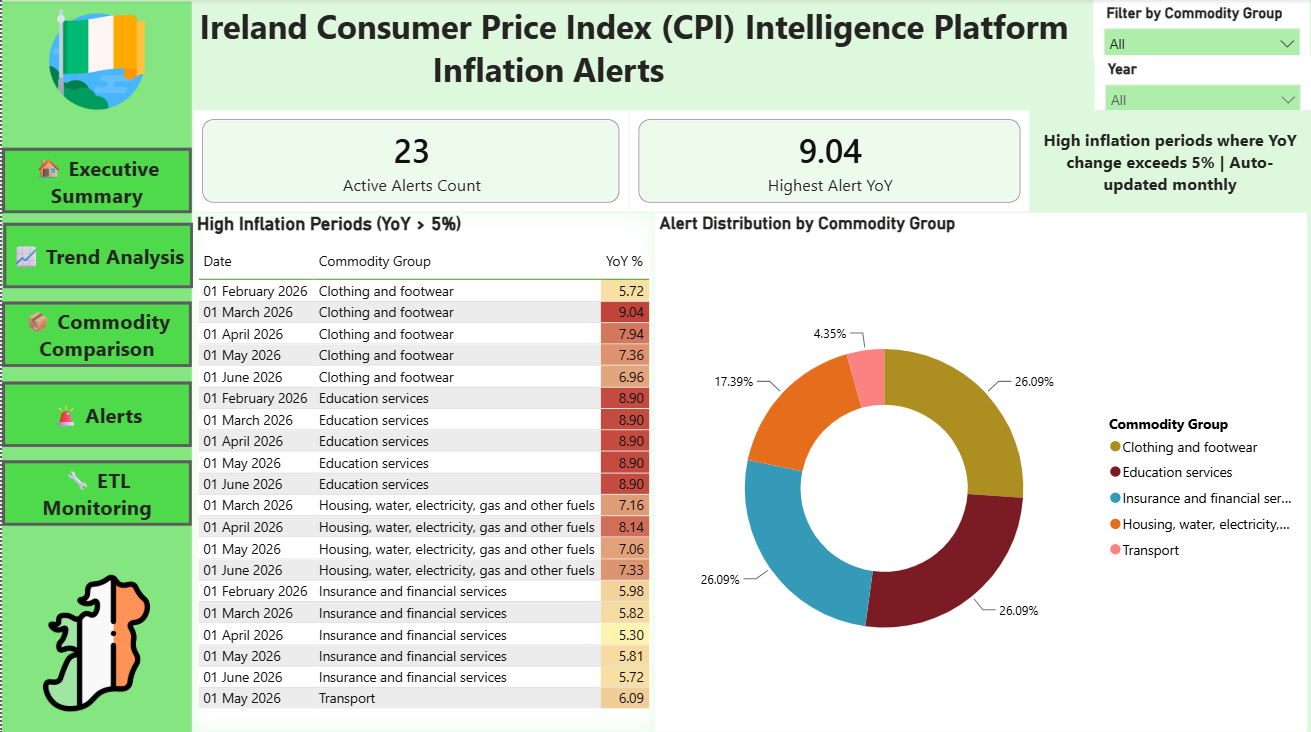

This screenshot's page, from the dashboard's own definition file:
{"tool":"powerbi","page":{"name":"Alerts","canvas":[1280,720],"ordinal":3},"visuals":[{"type":"cardVisual","fields":{"Data":["ireland_cpi_db vw_inflation_alerts.Active Alerts Count"]},"box":[187.6,108.8,426.1,99.6],"z":0},{"type":"cardVisual","fields":{"Data":["ireland_cpi_db vw_inflation_alerts.Highest Alert YoY"]},"box":[613.6,108.8,391.3,99.6],"z":1},{"type":"tableEx","title":"High Inflation Periods (YoY > 5%)","fields":{"Values":["ireland_cpi_db vw_inflation_alerts.full_date","ireland_cpi_db vw_inflation_alerts.group_name","Avg(ireland_cpi_db vw_inflation_alerts.yoy_change)"]},"box":[186.3,209.6,452.4,508.9],"z":2},{"type":"slicer","fields":{"Values":["ireland_cpi_db vw_cpi_monthly_summary.group_name"]},"box":[1068,0,212,60],"z":3},{"type":"textbox","box":[0,0,1068.9,108.6],"z":4},{"type":"textbox","box":[0,2.3,185.2,717.8],"z":6},{"type":"image","box":[26,562,133.9,135.1],"z":7},{"type":"actionButton","box":[0,145,185.8,64.2],"z":8},{"type":"actionButton","box":[0.8,219.2,185.8,64.2],"z":9},{"type":"actionButton","box":[0,295.8,185.8,64.2],"z":10},{"type":"actionButton","box":[0,374.2,185.8,64.2],"z":11},{"type":"actionButton","box":[0,450.8,185.8,64.2],"z":12},{"type":"image","box":[26,10,134,98],"z":13},{"type":"slicer","fields":{"Values":["DateTable.Year"]},"box":[1068.3,54.7,211.7,53.3],"z":14},{"type":"textbox","box":[1007.6,121.1,270.2,86.8],"z":15},{"type":"donutChart","title":"Alert Distribution by Commodity Group","fields":{"Category":["ireland_cpi_db vw_inflation_alerts.group_name"],"Y":["CountNonNull(ireland_cpi_db vw_inflation_alerts.yoy_change)"]},"box":[638.7,209.6,638.7,508.9],"z":16}]}

Visuals, with their boxes in screenshot pixels (x1, y1, x2, y2), scaled from the page's 1280x720 canvas onto the 1311x732 screenshot:
cardVisual - ireland_cpi_db vw_inflation_alerts.Active Alerts Count: Rect(192, 111, 629, 212)
cardVisual - ireland_cpi_db vw_inflation_alerts.Highest Alert YoY: Rect(628, 111, 1029, 212)
"High Inflation Periods (YoY > 5%)" tableEx: Rect(191, 213, 654, 730)
slicer - ireland_cpi_db vw_cpi_monthly_summary.group_name: Rect(1094, 0, 1310, 61)
textbox: Rect(0, 0, 1095, 110)
textbox: Rect(0, 2, 190, 731)
image: Rect(27, 571, 164, 709)
actionButton: Rect(0, 147, 190, 213)
actionButton: Rect(1, 223, 191, 288)
actionButton: Rect(0, 301, 190, 366)
actionButton: Rect(0, 380, 190, 446)
actionButton: Rect(0, 458, 190, 524)
image: Rect(27, 10, 164, 110)
slicer - DateTable.Year: Rect(1094, 56, 1310, 110)
textbox: Rect(1032, 123, 1309, 211)
"Alert Distribution by Commodity Group" donutChart: Rect(654, 213, 1308, 730)
